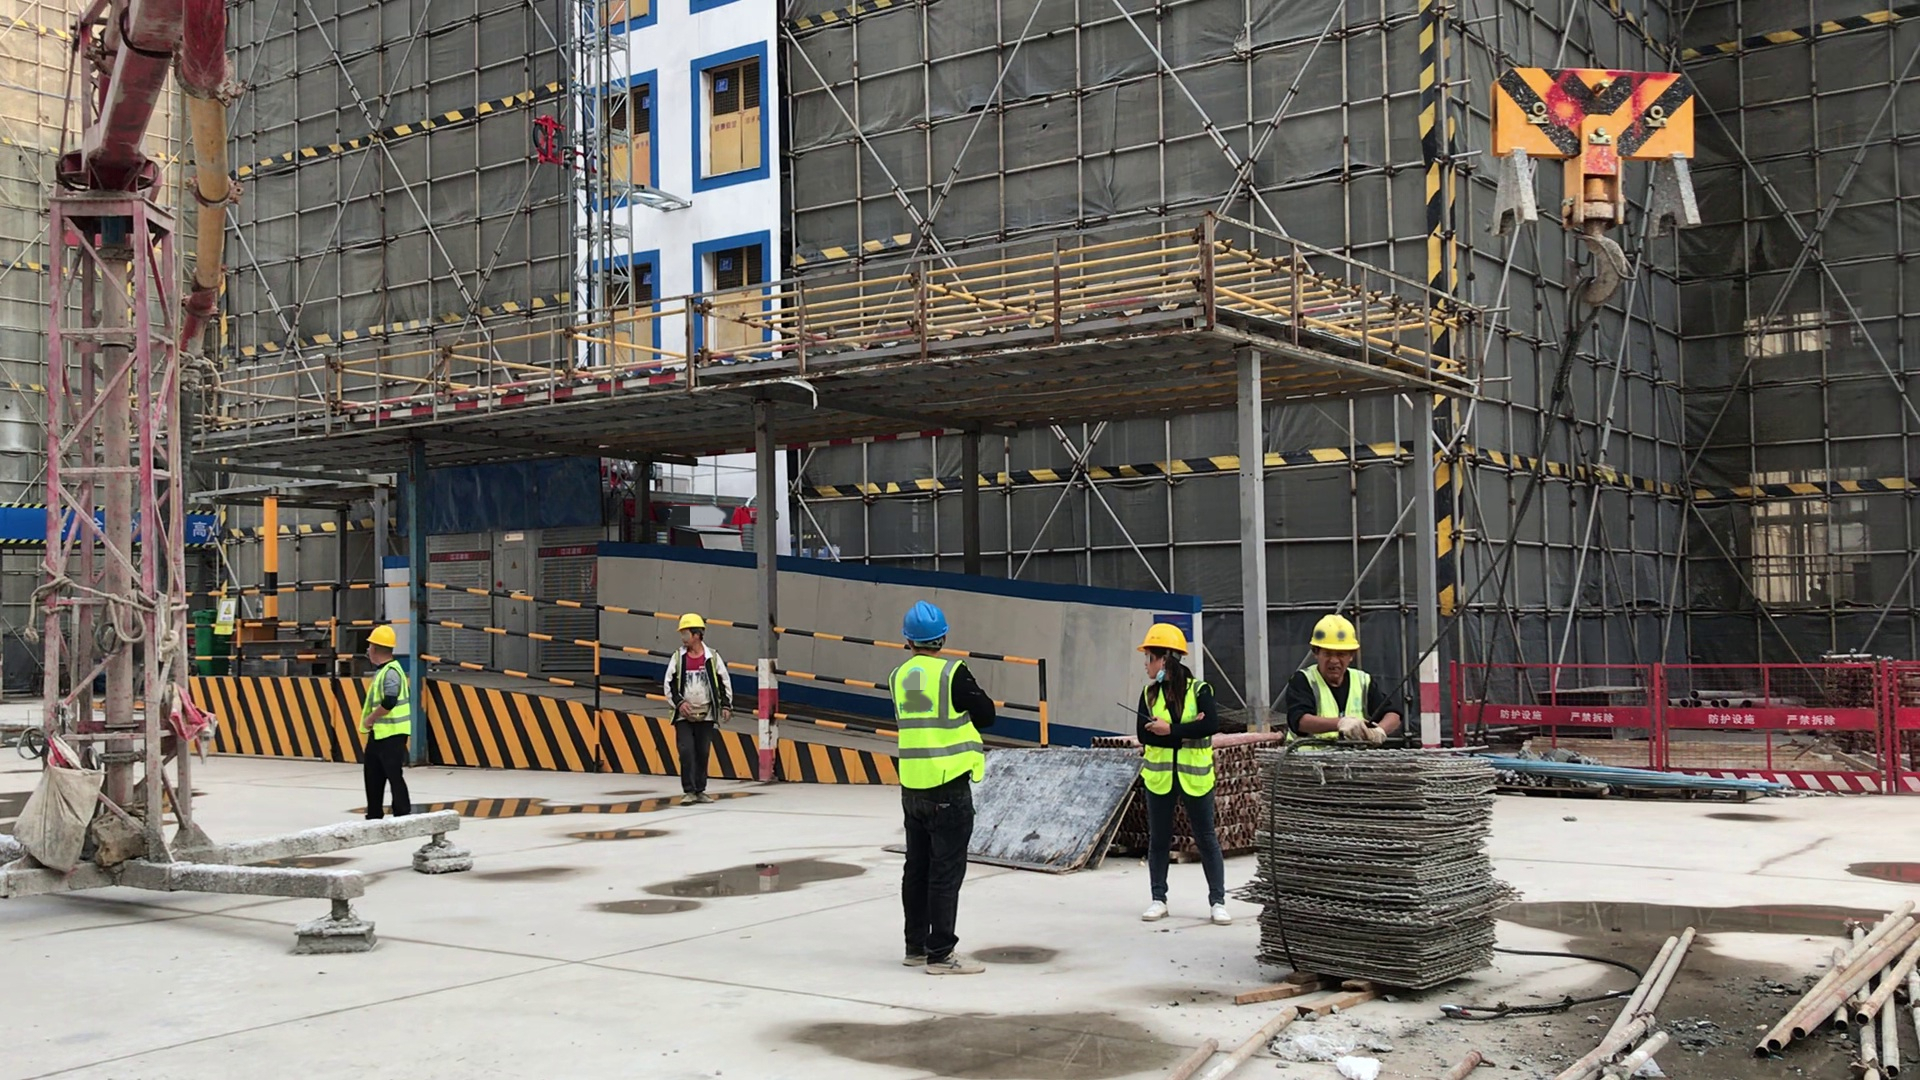helmet: (1304, 608, 1368, 653), (900, 599, 953, 647), (1134, 620, 1196, 655), (362, 622, 398, 652), (675, 608, 709, 632)
person: (871, 587, 1007, 983), (1121, 612, 1245, 930), (1274, 609, 1411, 753), (341, 623, 436, 823), (654, 600, 744, 805)
vest: (885, 658, 982, 784), (1141, 681, 1220, 795), (1301, 672, 1370, 738), (358, 668, 417, 743)
